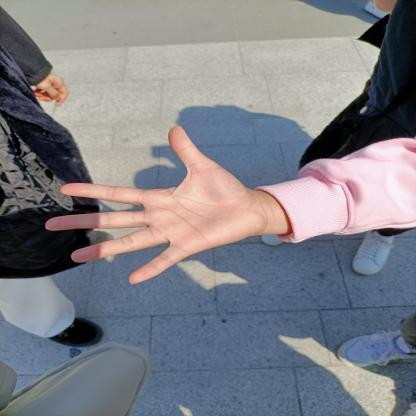bare_hand: (35, 118, 277, 289)
